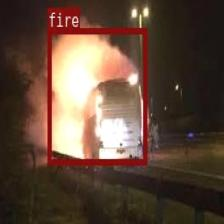fire: (47, 27, 147, 164)
